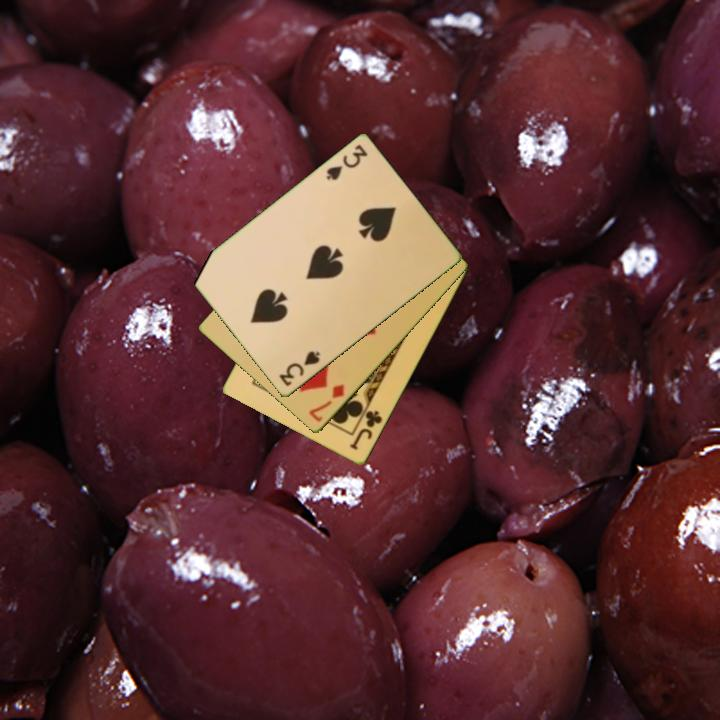3s: (322, 141, 370, 184), (275, 348, 323, 390)
7d: (305, 381, 348, 425)
Jc: (346, 407, 385, 453)
